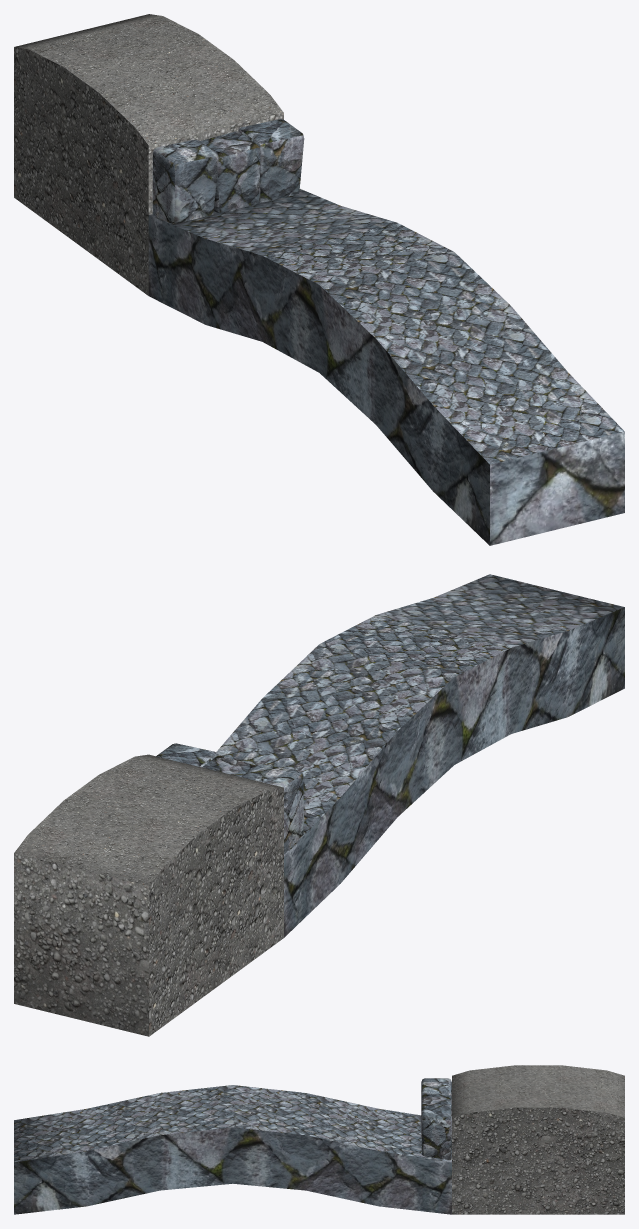
Rendered from Street_1m.fbx.
The picture shows the model from 3 angles, top to bottom: view 1: azimuth 30°, elevation 25°; view 2: azimuth 150°, elevation 25°; view 3: azimuth 270°, elevation 25°; orthographic projection. The views are drawn at different scales.
Visible parts, largest first — view 1: Street_1m; view 2: Street_1m; view 3: Street_1m.
Part boxes in pixels (box(x1,y1,x2,y2)): Street_1m: box(14, 14, 624, 545); Street_1m: box(14, 574, 624, 1036); Street_1m: box(14, 1065, 624, 1214).
Size of the model in its own units: 0.9834 by 1.16 by 6.
